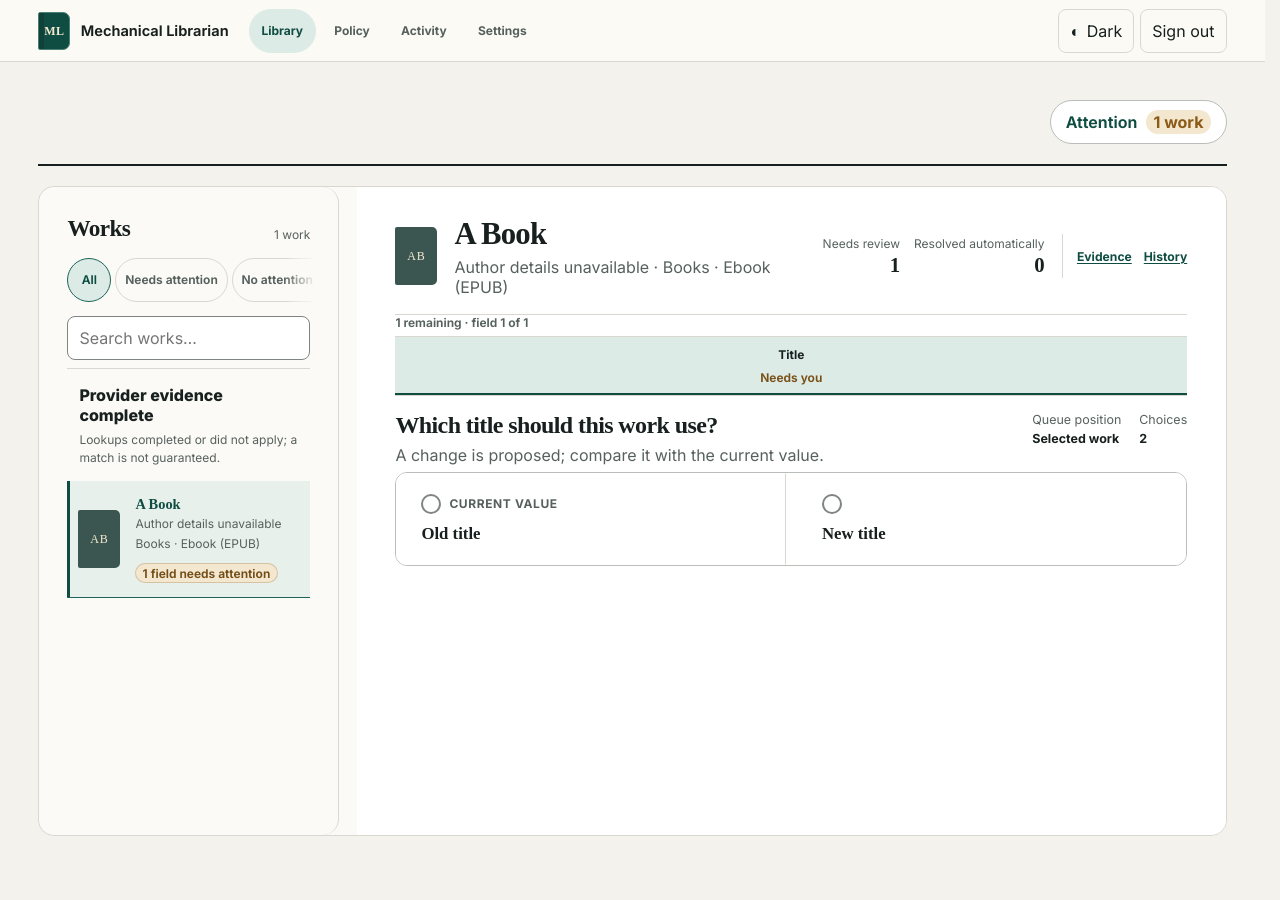
Library review ownership › records the exact selected scalar choice and refreshes the Library read model
Click the radio button with aria-label "Choose proposed value". click: {"x": 992, "y": 504}
box: [798,474,1185,564]
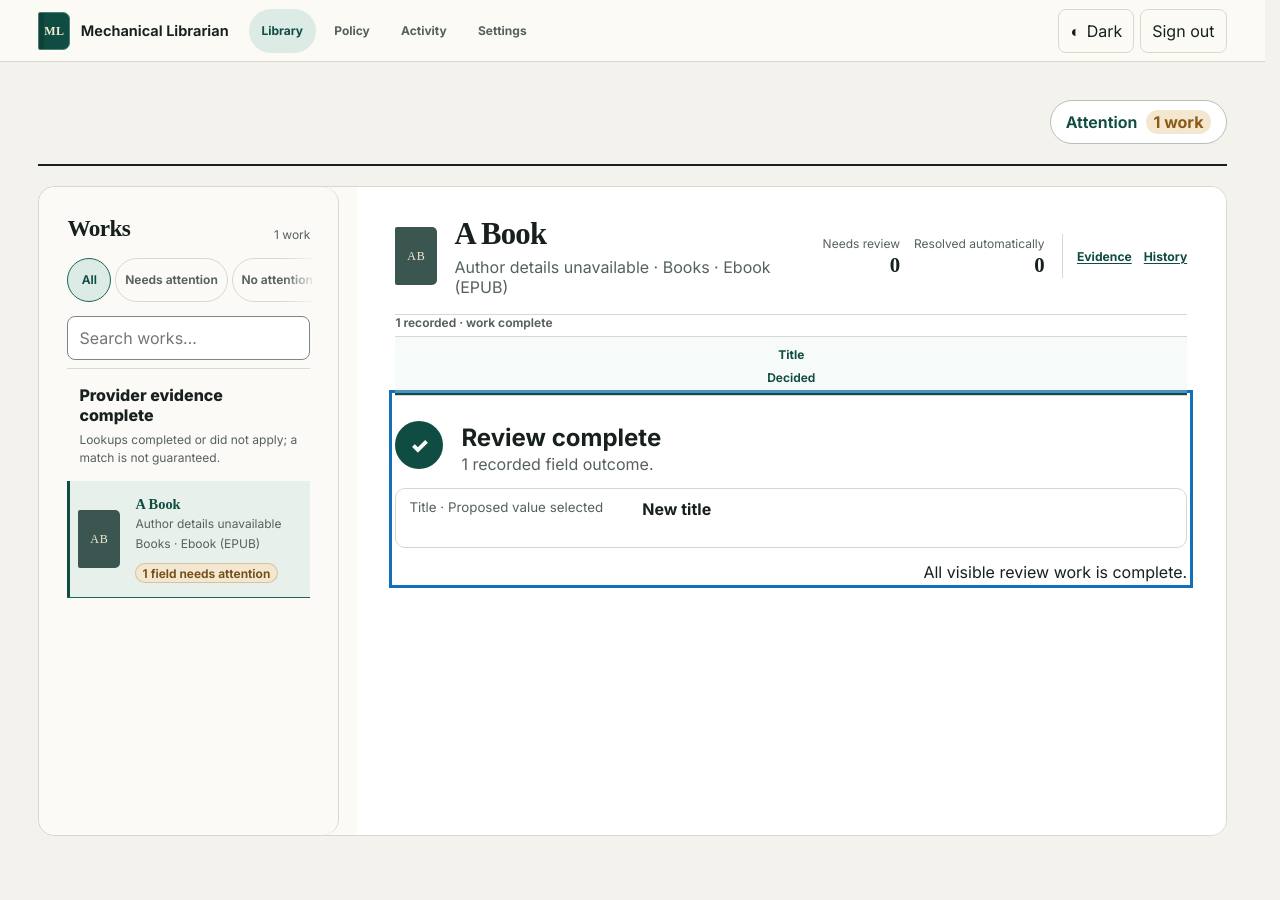
Check: the heading "Review complete" is shown, box [461,423,661,452]
